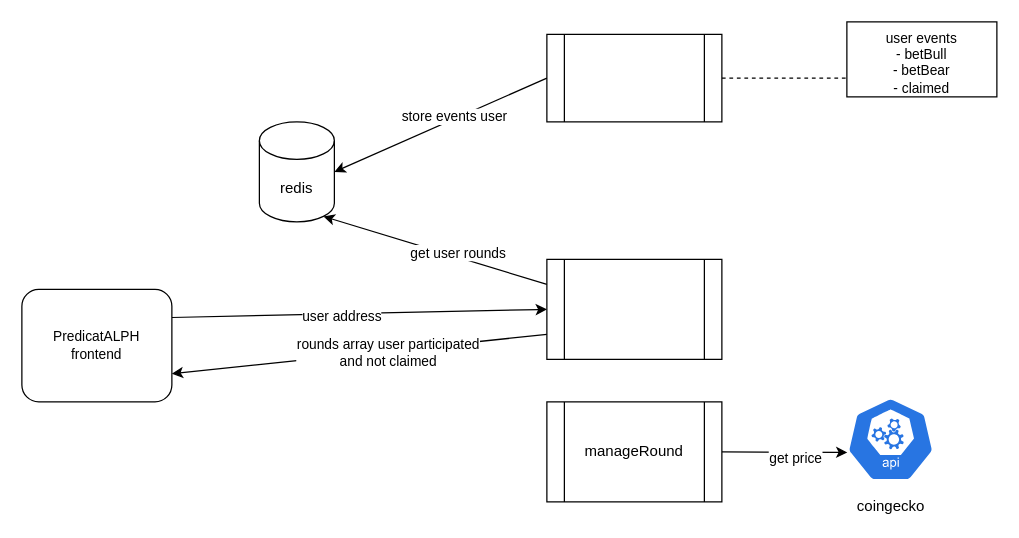
This 1019x538 diagram has some shape labels left out. The shapes that lost their labels are listed below. From the top down, each one's centre as x and y in pixels, then its label:
At [634,77]: "eventsListener".
At [634,308]: "api /round/:address".
